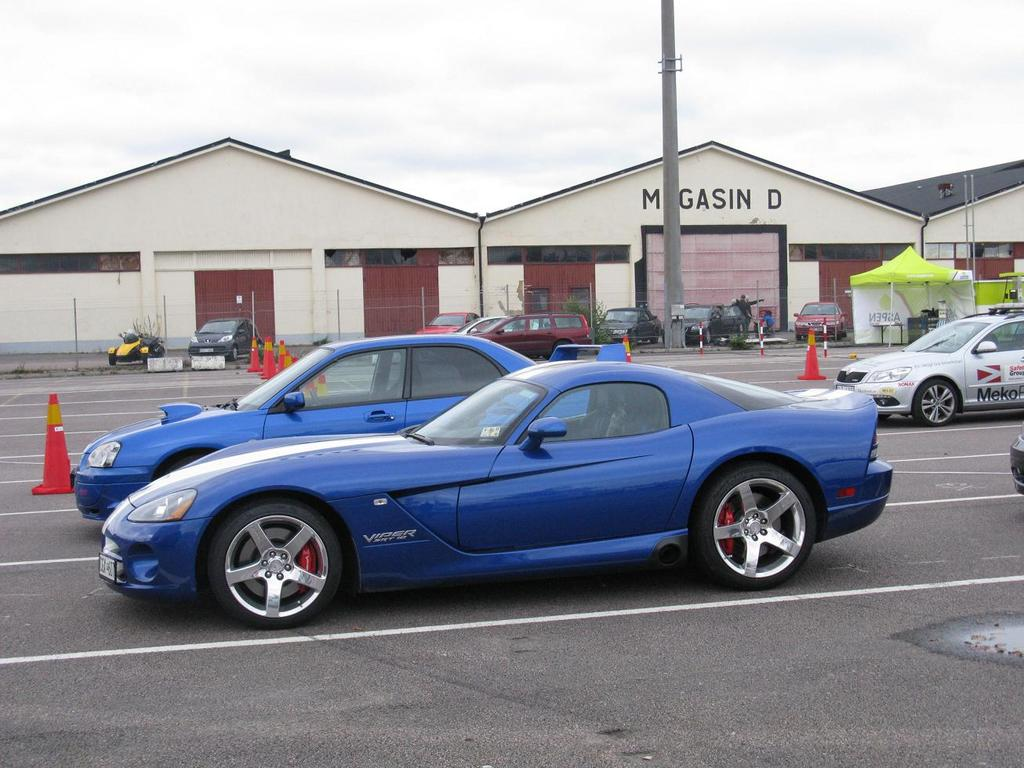Car: (103, 361, 894, 629), (76, 327, 632, 516), (838, 308, 1023, 428), (479, 313, 591, 361), (191, 317, 263, 358), (599, 306, 660, 345), (791, 305, 848, 337), (108, 334, 160, 365), (414, 311, 480, 334), (1012, 429, 1023, 494)
